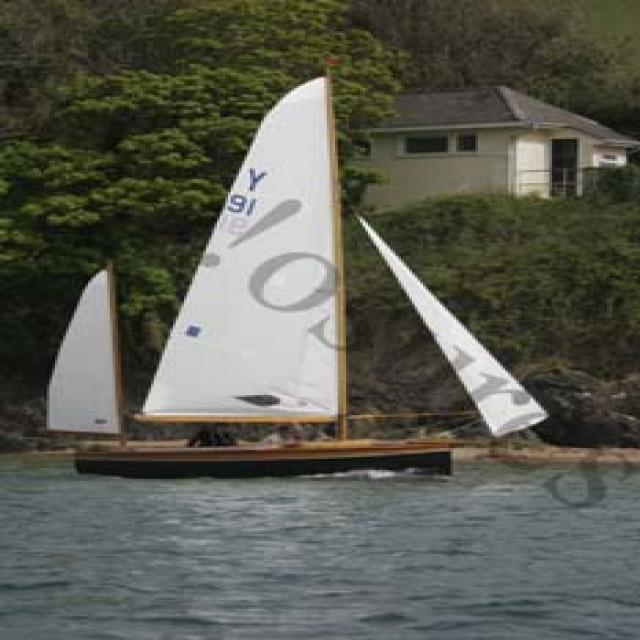Ship: (10, 60, 523, 482)
